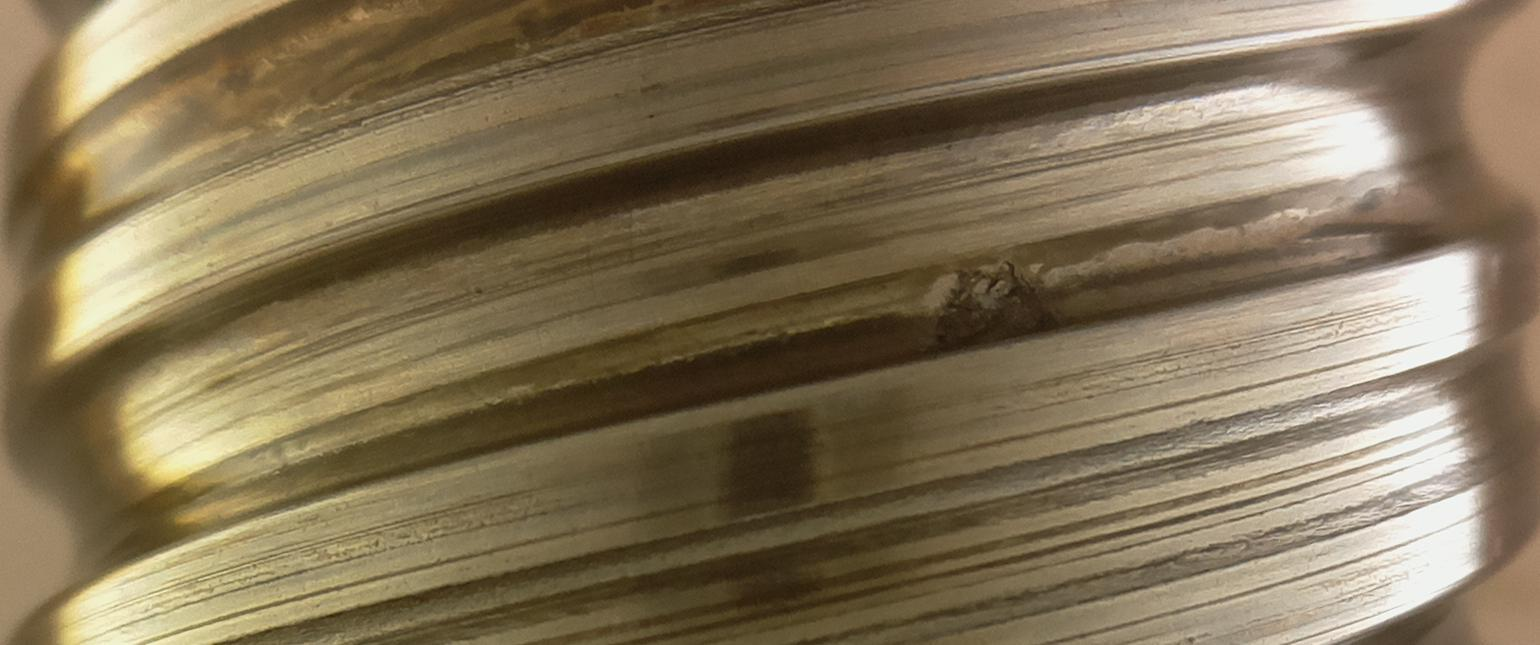pitting: (934, 260, 1060, 351)
